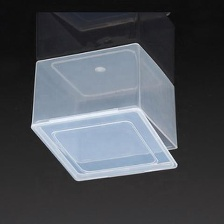plastic_box: (23, 36, 188, 188)
